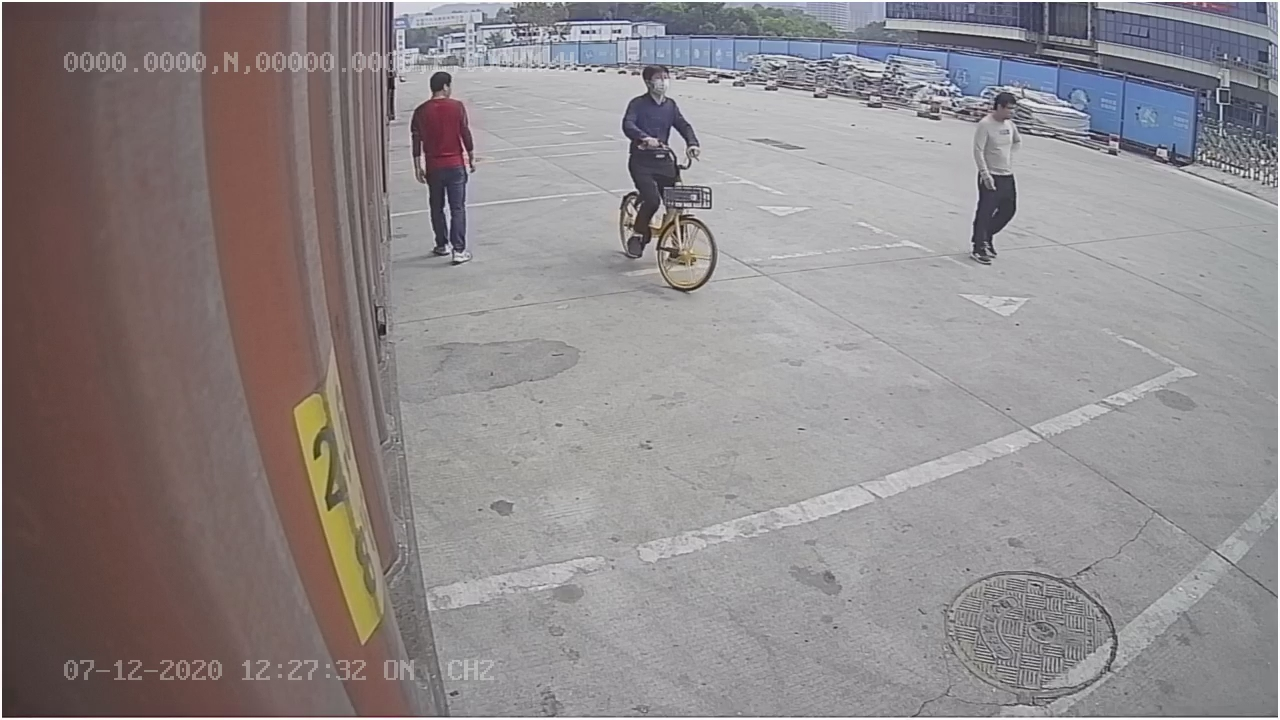person: (405, 69, 481, 267)
